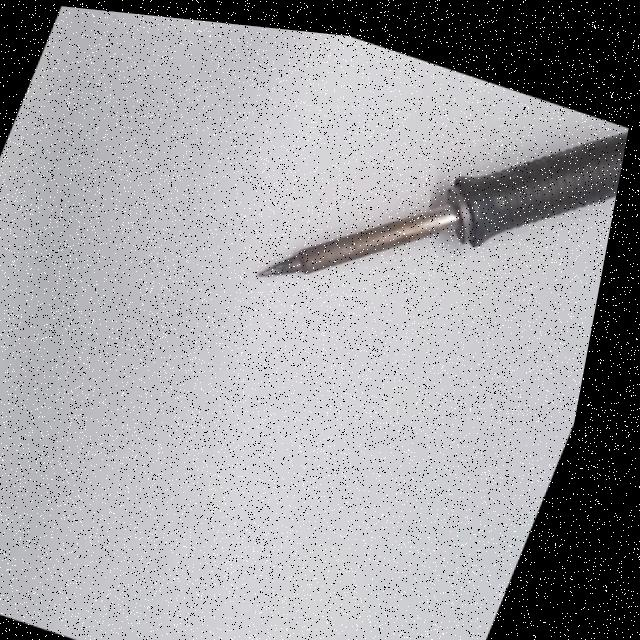soldering_iron: (242, 31, 640, 387)
